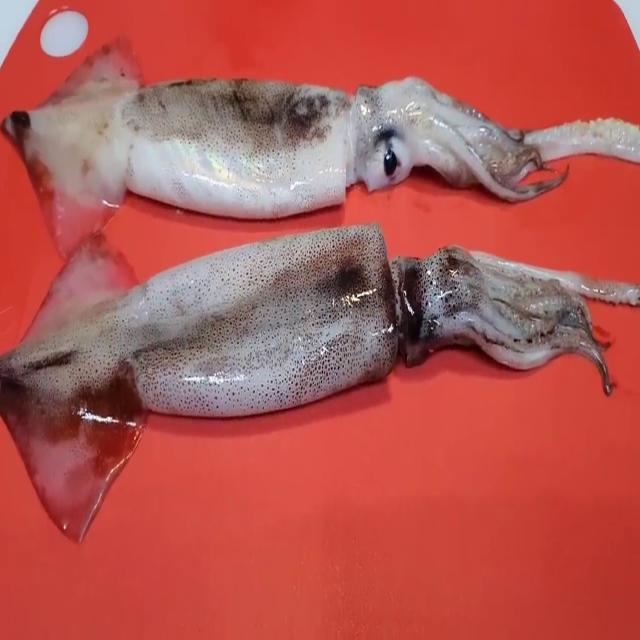squid: (0, 220, 608, 550), (0, 36, 522, 223)
